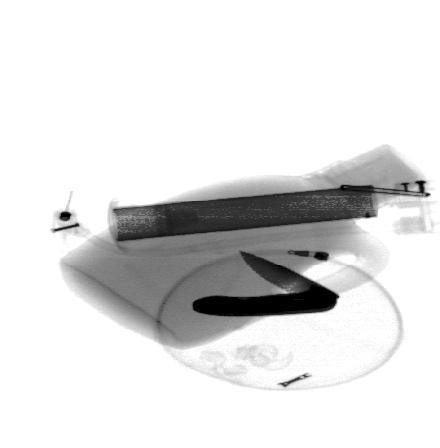Knife: (190, 249, 342, 318)
